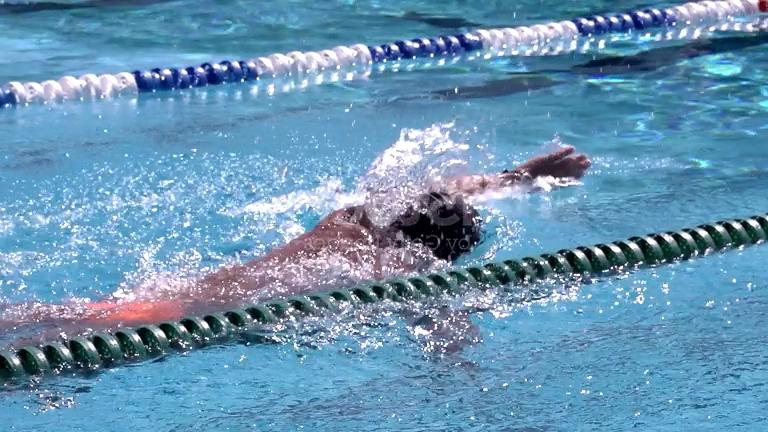Swimming: (3, 130, 594, 367)
